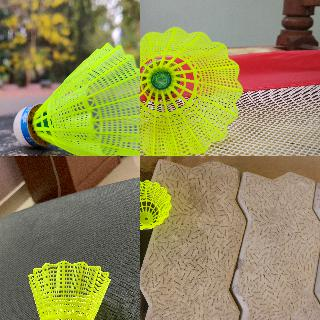shuttlecock: (13, 42, 139, 155), (140, 26, 243, 155), (28, 260, 111, 319), (140, 179, 172, 229)
